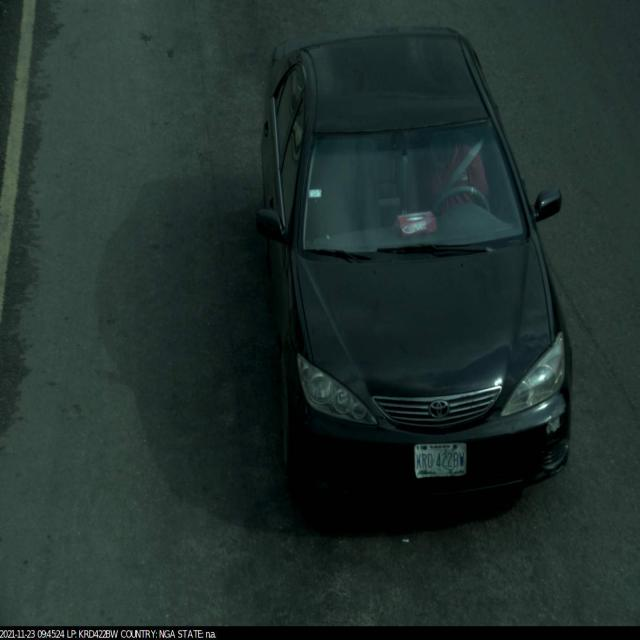windshield: (296, 115, 532, 260)
